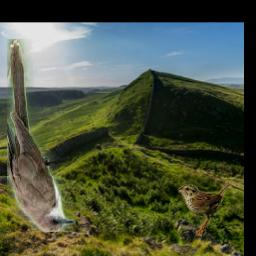Cuckoo: (6, 40, 75, 233)
Sparrow: (178, 179, 234, 236)
